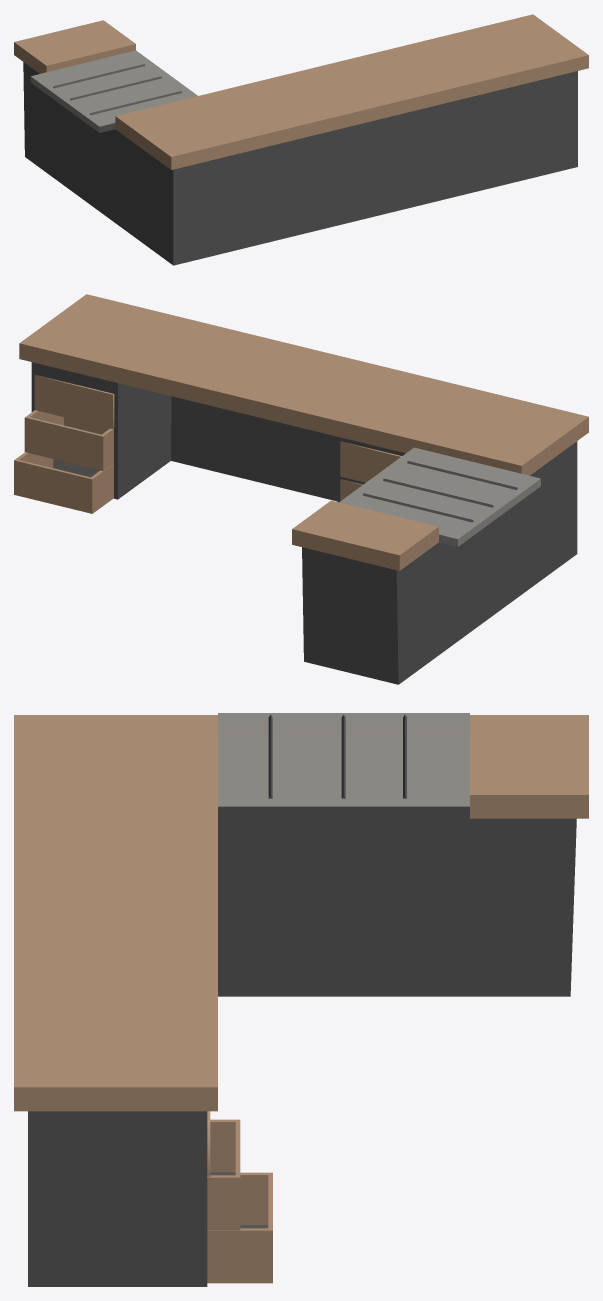
Rendered from DeliveryDesk_01.fbx.
3 views of the same model, one above another, from view 1: azimuth 30°, elevation 25°; view 2: azimuth 150°, elevation 25°; view 3: azimuth 270°, elevation 25° (orthographic). The views are drawn at different scales.
Visible parts, largest first — view 1: DeliveryDesk_01; view 2: DeliveryDesk_01; view 3: DeliveryDesk_01.
Part boxes in pixels (bbox=[...]): DeliveryDesk_01: bbox=[14, 14, 588, 265]; DeliveryDesk_01: bbox=[14, 294, 588, 684]; DeliveryDesk_01: bbox=[14, 713, 588, 1286].
Bounding box in the file's own units: 4.09 × 1.02 × 2.57.
